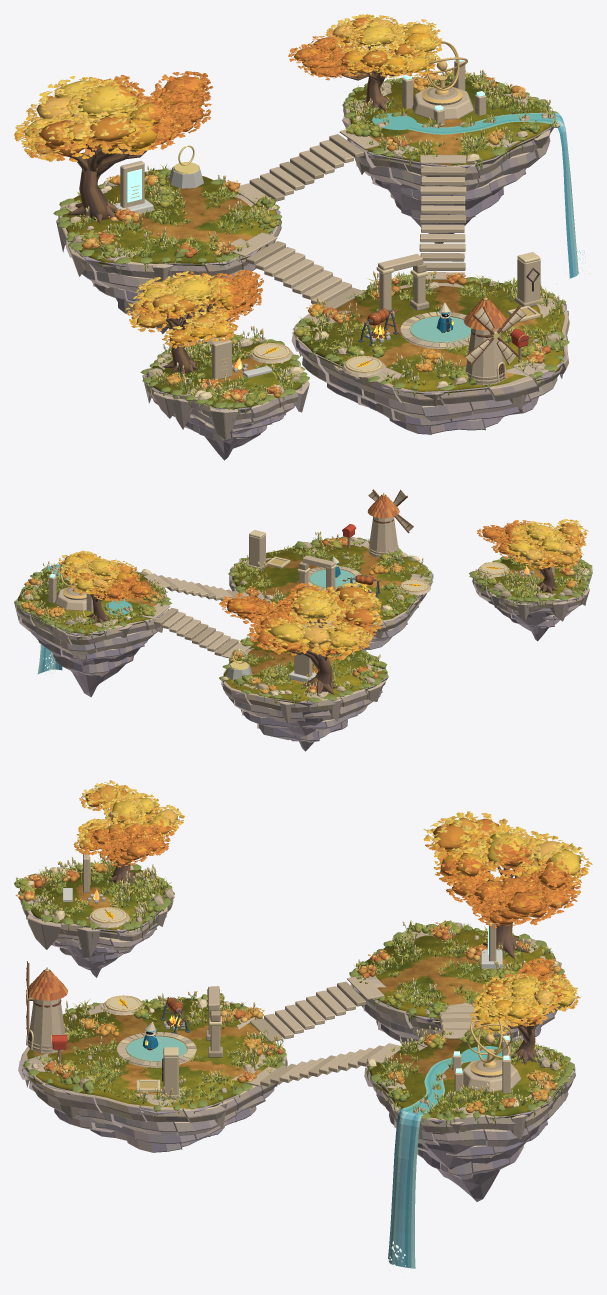
File: autumn-garden.glb
3 renders of one model, top to bottom at view 1: azimuth 30°, elevation 25°; view 2: azimuth 150°, elevation 25°; view 3: azimuth 270°, elevation 25°, orthographic. The views are drawn at different scales.
Parts seen in each view (by area): view 1: 广场 · 草地, 广场 · 层状石灰岩, 古树林 · 草地, 银杏母树 · 扇形叶簇, 山巅 · 层状石灰岩, 山巅 · 草地, 银杏母树 · 冠层, 飞岛银杏 · 扇形叶簇, 山巅幼树 · 扇形叶簇, 古树林 · 层状石灰岩, 古树林 · 疏密草丛, 广场 · 疏密草丛 (+41 smaller); view 2: 银杏母树 · 扇形叶簇, 广场 · 草地, 山巅 · 层状石灰岩, 古树林 · 层状石灰岩, 银杏母树 · 冠层, 古树林 · 草地, 飞岛银杏 · 扇形叶簇, 山巅幼树 · 扇形叶簇, 飞岛银杏 · 冠层, 广场 · 疏密草丛, 山巅 · 草地, 山巅幼树 · 冠层 (+34 smaller); view 3: 广场 · 草地, 广场 · 层状石灰岩, 银杏母树 · 扇形叶簇, 古树林 · 草地, 山巅 · 层状石灰岩, 银杏母树 · 冠层, 山巅 · 草地, 广场 · 疏密草丛, 飞岛银杏 · 扇形叶簇, 东崖 · 瀑布水帘, 山巅幼树 · 扇形叶簇, 古树林 · 疏密草丛 (+35 smaller).
Boxes of the visible parts, <box> form: 广场 · 草地: <box>298,278,564,394</box>; 广场 · 层状石灰岩: <box>291,283,569,434</box>; 古树林 · 草地: <box>62,169,277,265</box>; 银杏母树 · 扇形叶簇: <box>14,75,186,161</box>; 山巅 · 层状石灰岩: <box>343,81,550,223</box>; 山巅 · 草地: <box>349,77,550,165</box>; 银杏母树 · 冠层: <box>25,80,174,156</box>; 飞岛银杏 · 扇形叶簇: <box>125,271,252,348</box>; 山巅幼树 · 扇形叶簇: <box>308,14,442,77</box>; 古树林 · 层状石灰岩: <box>58,169,281,318</box>; 古树林 · 疏密草丛: <box>66,164,275,258</box>; 广场 · 疏密草丛: <box>300,272,564,385</box>; 银杏母树 · 扇形叶簇: <box>247,582,382,659</box>; 广场 · 草地: <box>231,537,428,620</box>; 山巅 · 层状石灰岩: <box>16,579,168,676</box>; 古树林 · 层状石灰岩: <box>222,648,384,742</box>; 银杏母树 · 冠层: <box>256,587,375,654</box>; 古树林 · 草地: <box>223,642,387,703</box>; 飞岛银杏 · 扇形叶簇: <box>491,519,588,570</box>; 山巅幼树 · 扇形叶簇: <box>58,550,140,603</box>; 飞岛银杏 · 冠层: <box>498,522,582,566</box>; 广场 · 疏密草丛: <box>231,534,431,610</box>; 山巅 · 草地: <box>18,567,165,635</box>; 山巅幼树 · 冠层: <box>63,553,135,600</box>; 广场 · 草地: <box>24,998,282,1110</box>; 广场 · 层状石灰岩: <box>18,1001,287,1152</box>; 银杏母树 · 扇形叶簇: <box>423,811,592,925</box>; 古树林 · 草地: <box>352,926,560,1020</box>; 山巅 · 层状石灰岩: <box>364,1041,575,1179</box>; 银杏母树 · 冠层: <box>433,817,580,917</box>; 山巅 · 草地: <box>369,1038,568,1117</box>; 广场 · 疏密草丛: <box>33,995,283,1106</box>; 飞岛银杏 · 扇形叶簇: <box>73,780,184,855</box>; 东崖 · 瀑布水帘: <box>388,1109,422,1268</box>; 山巅幼树 · 扇形叶簇: <box>470,973,580,1034</box>; 古树林 · 疏密草丛: <box>353,920,558,1014</box>.
Size of the model in its own units: 32.49 by 13.12 by 28.03.
Materials: 95 (4 with a texture image).
